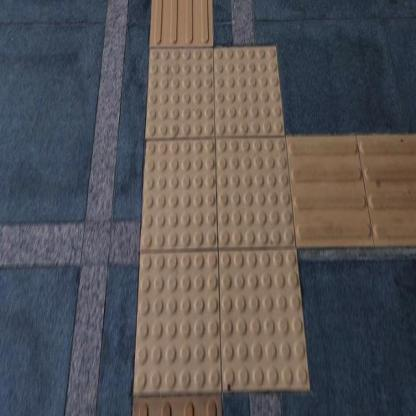podotacti: (121, 21, 348, 415), (301, 132, 415, 251), (151, 0, 214, 46), (133, 395, 223, 415)
